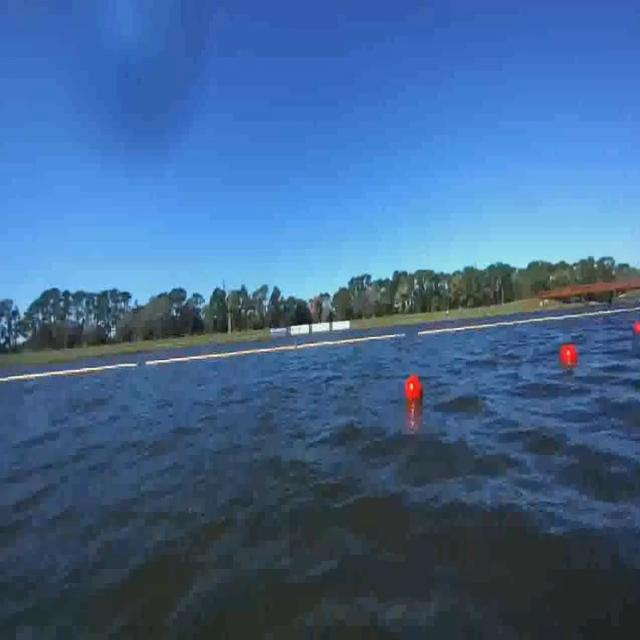red-buoy: (407, 373, 424, 400), (560, 344, 579, 368), (633, 320, 640, 334)
